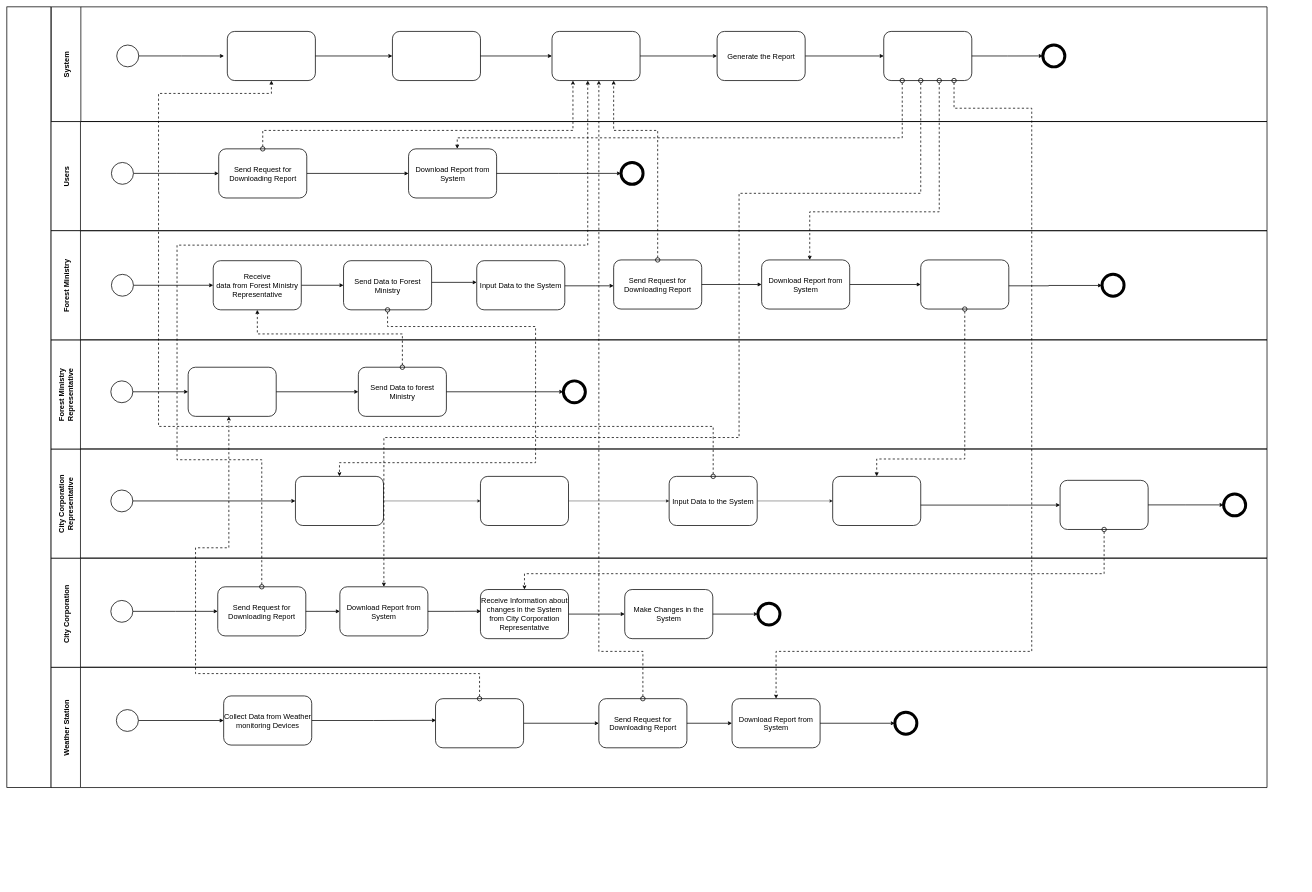
The diagram is 1312 pixels wide and 892 high, and some of its shapes have lost their labels. Here are the shapes that lost their labels. From the top down, the centre of each, then its label:
point (271, 56): Receive Data from the City Corporation Representative
point (436, 56): Store data in the System
point (595, 56): Receive request for Downloading Report
point (927, 56): Send Report
point (964, 284): Send Request to make changes in system to the City Corporation Representative
point (28, 397): Air Quality Index
point (232, 392): Collect Data from Weather Station
point (339, 501): Receive Data from Forest Ministry
point (524, 501): Verifies the data
point (876, 501): Receive Request to make changes
point (1104, 505): Send Information about changes in the System to the City Corporation
point (479, 723): Send Data to Forest Ministry Representative
